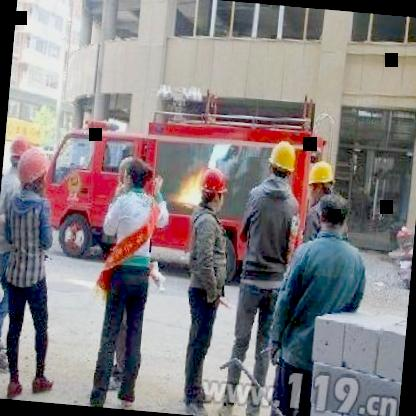helmet: (197, 167, 229, 216), (266, 138, 299, 184), (18, 148, 50, 195), (306, 159, 336, 209), (7, 136, 32, 168)
